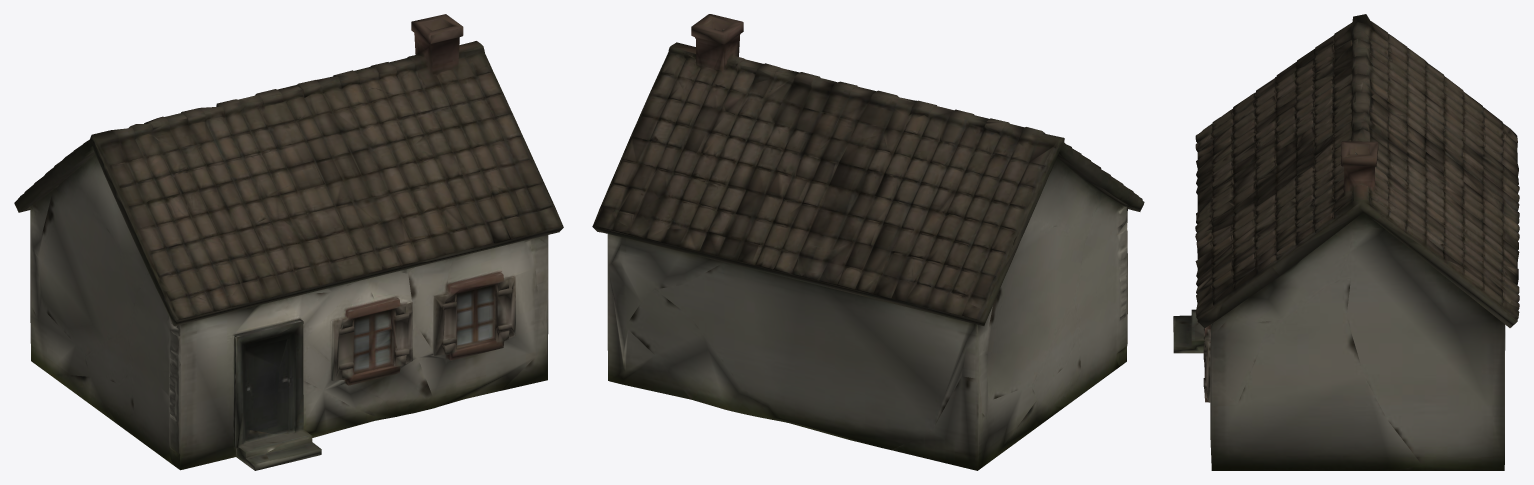
The model's file is CasaRural.glb.
The picture shows the model from 3 angles, left to right: view 1: azimuth 30°, elevation 25°; view 2: azimuth 150°, elevation 25°; view 3: azimuth 270°, elevation 25°; orthographic projection. The views are drawn at different scales.
Parts seen in each view (by area): view 1: node_0; view 2: node_0; view 3: node_0.
Part boxes in pixels (left/top/right/bottom): node_0: left=14, top=14, right=563, bottom=470; node_0: left=592, top=14, right=1144, bottom=470; node_0: left=1173, top=14, right=1519, bottom=470.
Bounding box in the file's own units: 0.8484 × 0.6465 × 0.666.
Materials: 1 (1 with a texture image).
